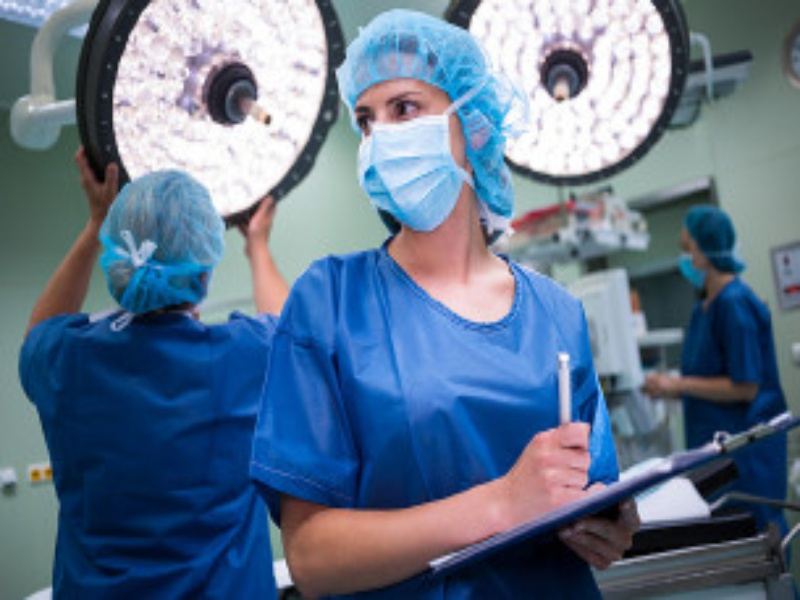mask: (339, 27, 497, 239), (673, 214, 739, 290)
